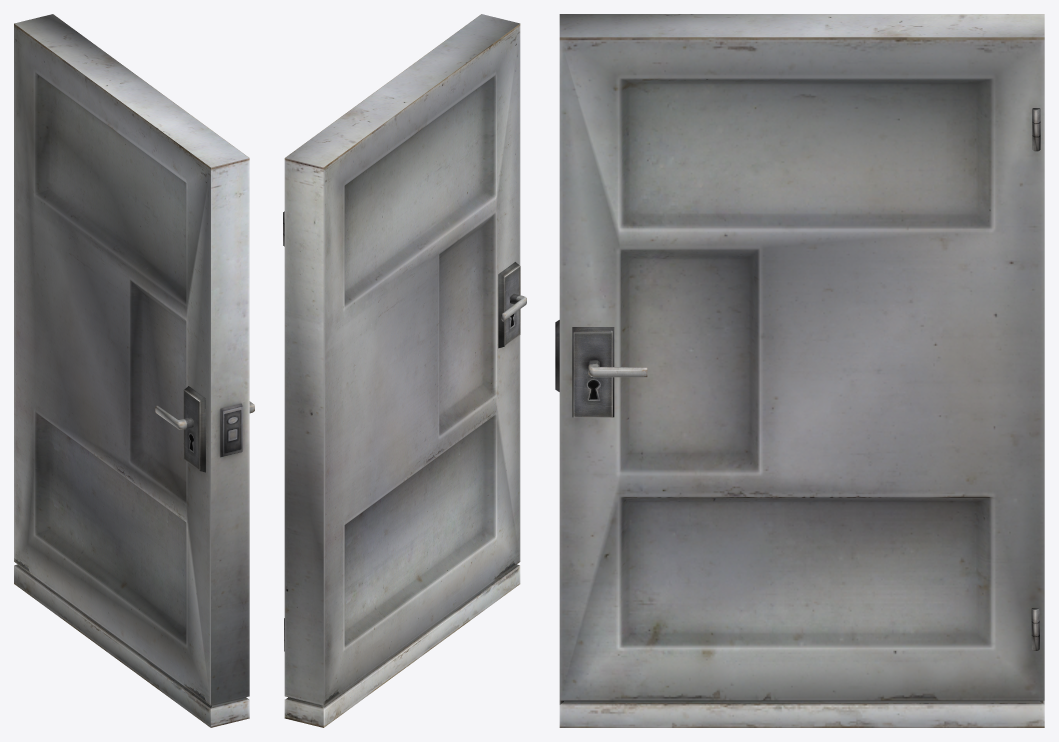
The model's file is swingdoor_apartment.dae.
3 renders of one model, left to right at view 1: azimuth 30°, elevation 25°; view 2: azimuth 150°, elevation 25°; view 3: azimuth 270°, elevation 25°, orthographic. The views are drawn at different scales.
Parts seen in each view (by area): view 1: swingdoor_apartment; view 2: swingdoor_apartment; view 3: swingdoor_apartment.
Part boxes in pixels (<box>): swingdoor_apartment: <box>14,14,254,727</box>; swingdoor_apartment: <box>283,14,526,727</box>; swingdoor_apartment: <box>555,14,1044,727</box>.
Bounding box in the file's own units: 39.8 × 275 × 177.
